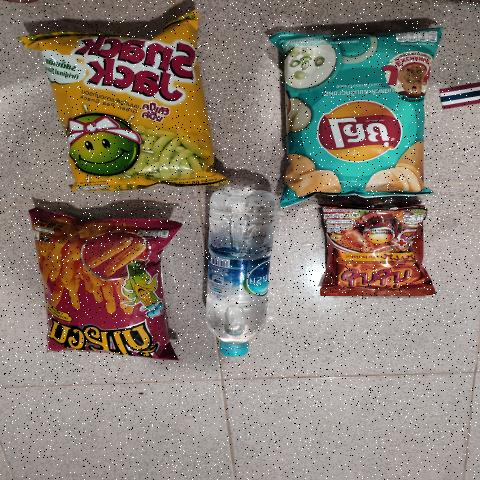crystal: (204, 198, 274, 364)
lay_blue: (294, 30, 436, 189)
mama: (334, 214, 421, 292)
snack_jack: (74, 16, 199, 182)
twisco: (51, 224, 172, 349)
